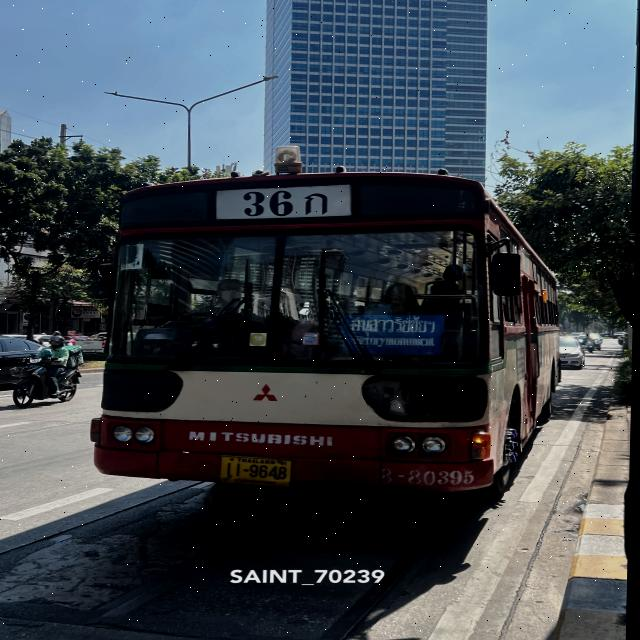BMTA-bus: (92, 170, 563, 497)
Bus Line Number: (218, 181, 349, 220)
Bus Side Number: (375, 463, 480, 492)
Destination Sign: (343, 314, 445, 357)
